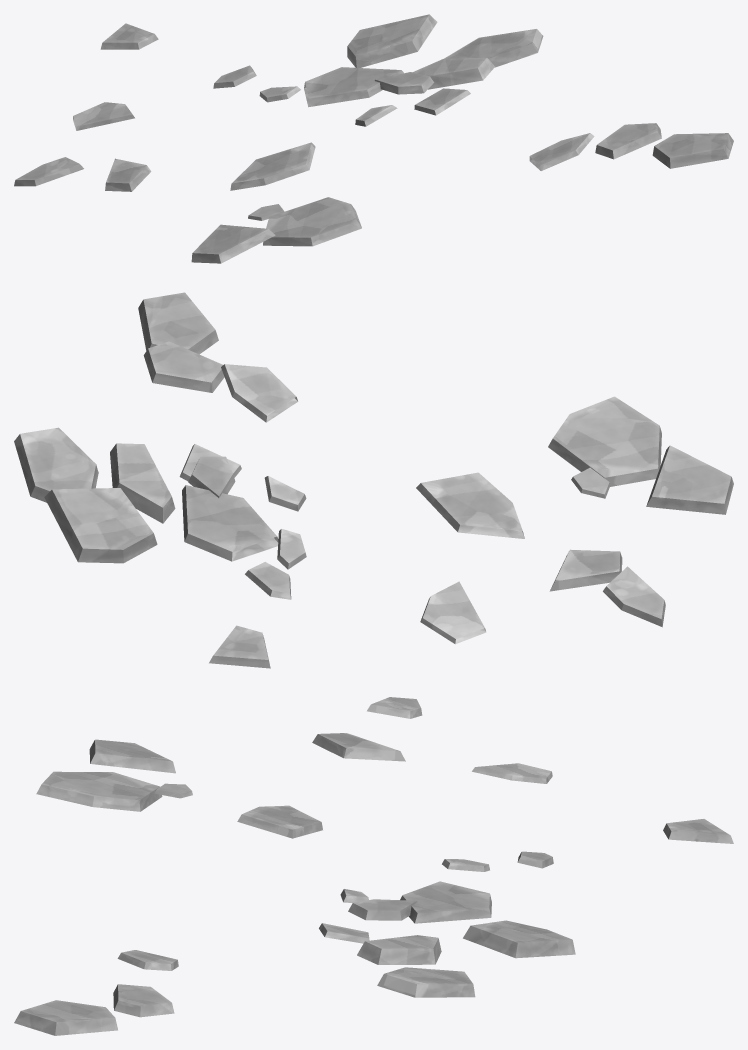
The model's file is sculpted_shards_03.glb.
The picture shows the model from 3 angles, top to bottom: view 1: azimuth 30°, elevation 25°; view 2: azimuth 150°, elevation 25°; view 3: azimuth 270°, elevation 25°; orthographic projection. The views are drawn at different scales.
Parts seen in each view (by area): view 1: sculpted_shards_03; view 2: sculpted_shards_03; view 3: sculpted_shards_03.
Part boxes in pixels (x1=…): sculpted_shards_03: x1=14, y1=14, x2=733, y2=263; sculpted_shards_03: x1=14, y1=292, x2=733, y2=668; sculpted_shards_03: x1=14, y1=697, x2=733, y2=1035.
Size of the model in its own units: 2.22 by 0.1425 by 1.96.
Materials: 1 (1 with a texture image).
